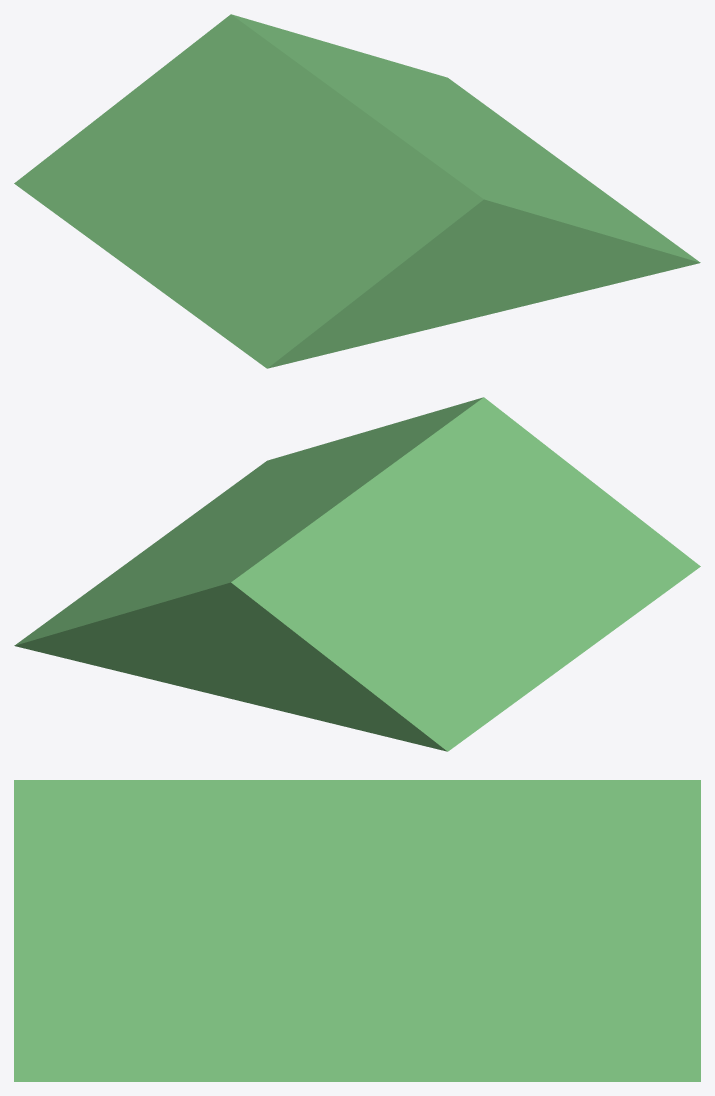
Rendered from Roof.glb.
The picture shows the model from 3 angles, top to bottom: view 1: azimuth 30°, elevation 25°; view 2: azimuth 150°, elevation 25°; view 3: azimuth 270°, elevation 25°; orthographic projection. The views are drawn at different scales.
Parts seen in each view (by area): view 1: Mesh_Mesh_head_geo.001_lambert2SG.001; view 2: Mesh_Mesh_head_geo.001_lambert2SG.001; view 3: Mesh_Mesh_head_geo.001_lambert2SG.001.
Boxes of the visible parts, box(x1,y1,x2,y2) form: Mesh_Mesh_head_geo.001_lambert2SG.001: box(14, 14, 700, 368); Mesh_Mesh_head_geo.001_lambert2SG.001: box(14, 397, 700, 751); Mesh_Mesh_head_geo.001_lambert2SG.001: box(14, 780, 700, 1081).
Size of the model in its own units: 0.195 by 0.05 by 0.197.
